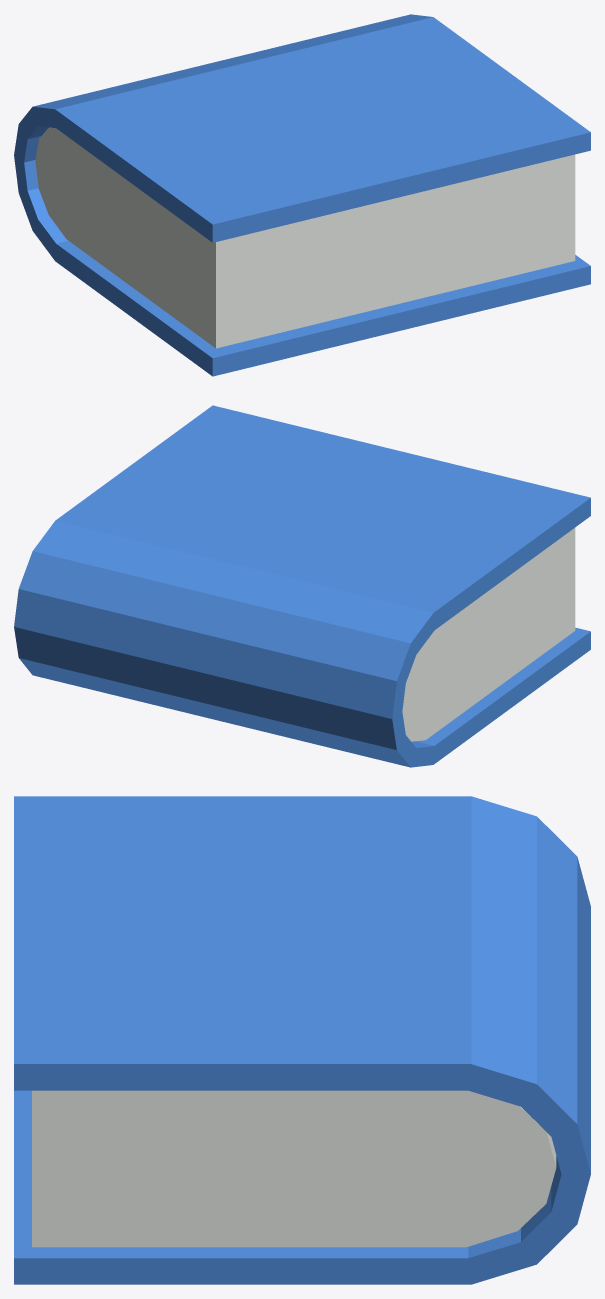
The model's file is Book_3a.fbx.
3 views of the same model, one above another, from view 1: azimuth 30°, elevation 25°; view 2: azimuth 150°, elevation 25°; view 3: azimuth 270°, elevation 25° (orthographic). The views are drawn at different scales.
Visible parts, largest first — view 1: Book_3a; view 2: Book_3a; view 3: Book_3a.
Part boxes in pixels (x1,y1,x2,y2): Book_3a: (14,14,590,376); Book_3a: (14,405,590,767); Book_3a: (14,796,590,1284).
Bounding box in the file's own units: 0.2083 × 0.08 × 0.1896.
